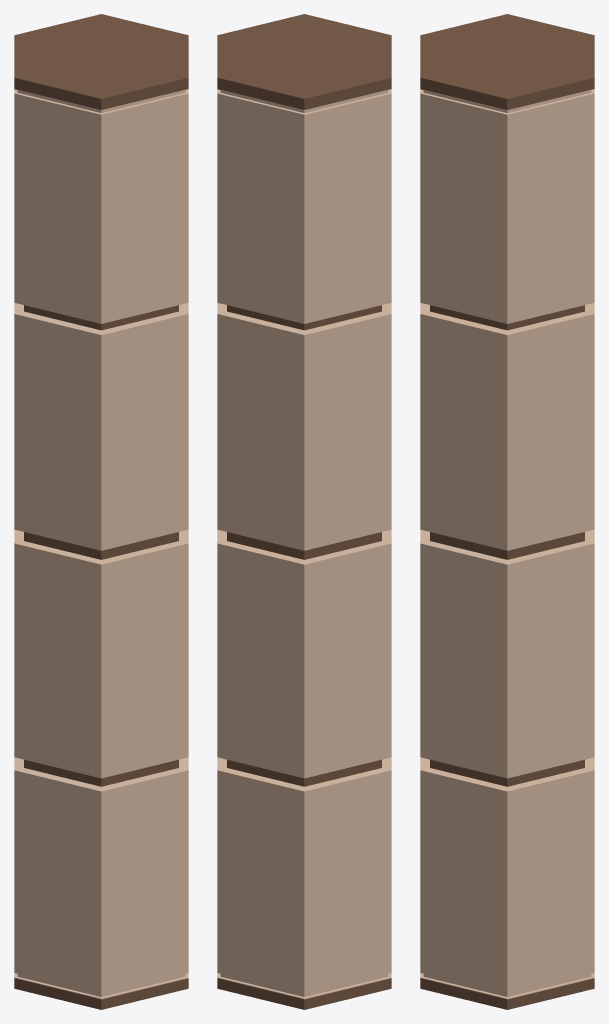
The model's file is Pillar_0.6_0.5_3_v02_Colored.fbx.
The picture shows the model from 3 angles, left to right: view 1: azimuth 30°, elevation 25°; view 2: azimuth 150°, elevation 25°; view 3: azimuth 270°, elevation 25°; orthographic projection.
Visible parts, largest first — view 1: Pillar_0_6_0_5_3_v02; view 2: Pillar_0_6_0_5_3_v02; view 3: Pillar_0_6_0_5_3_v02.
Part boxes in pixels (x1,y1,x2,y2): Pillar_0_6_0_5_3_v02: [14, 14, 188, 1009]; Pillar_0_6_0_5_3_v02: [217, 14, 391, 1009]; Pillar_0_6_0_5_3_v02: [420, 14, 594, 1009].
Size of the model in its own units: 60 by 300 by 51.96.
